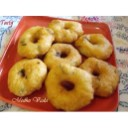vada: (47, 64, 95, 111), (81, 56, 119, 100), (5, 59, 47, 96), (18, 25, 53, 61), (44, 39, 83, 70), (50, 16, 84, 44), (78, 33, 113, 60)
